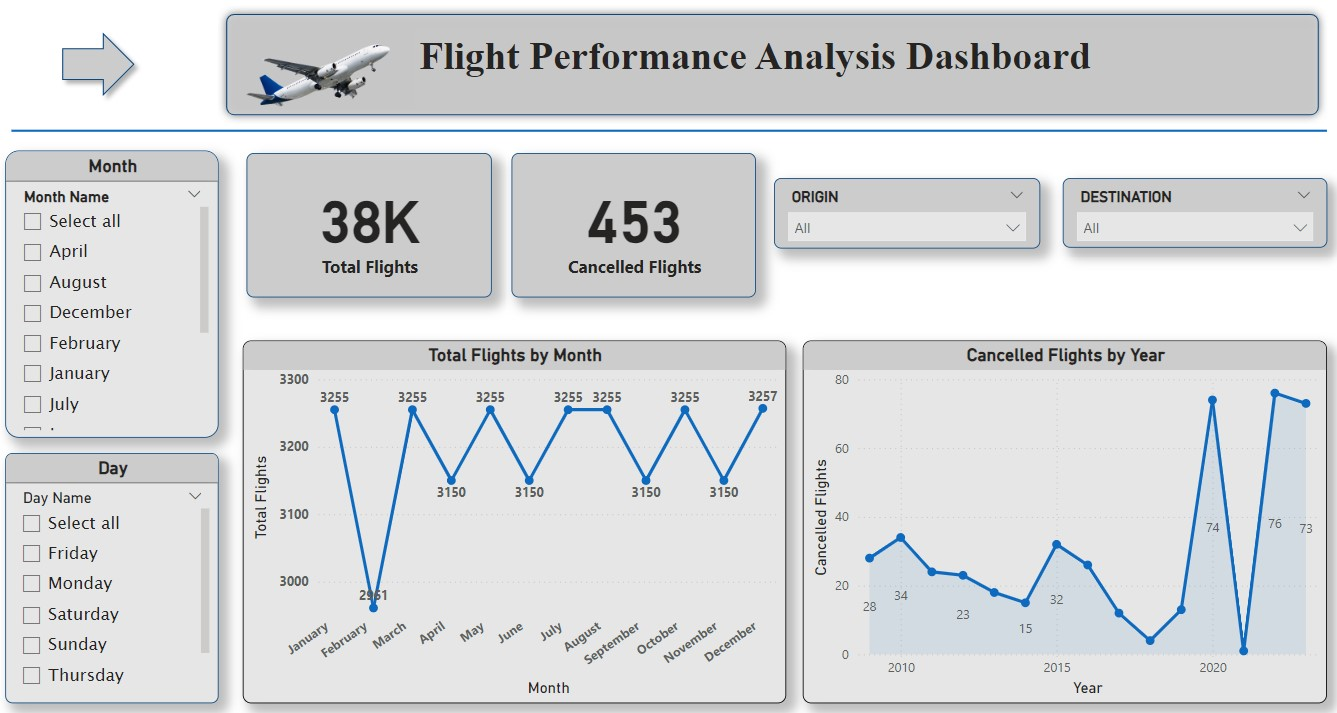

The page's visual inventory and layout, read from the dashboard file:
{"tool":"powerbi","page":{"name":"Overview","canvas":[1280,720],"ordinal":0},"visuals":[{"type":"shape","box":[208.6,12.3,1056.6,112.5],"z":0},{"type":"textbox","box":[395.2,32.9,865.9,75.5],"z":1000},{"type":"shape","box":[12.3,124.9,1252.8,12.3],"z":2000},{"type":"shape","box":[33.8,10.9,119.4,113.4],"z":3000},{"type":"card","fields":{"Values":["flights_data.Total Flights"]},"box":[236,152.3,233.3,137.2],"z":4000},{"type":"card","fields":{"Values":["flights_data.Cancelled Flights"]},"box":[488,152.3,233,137.2],"z":5000},{"type":"slicer","fields":{"Values":["flights_data.ORIGIN"]},"box":[738.3,175.6,253.9,67.2],"z":6000},{"type":"slicer","fields":{"Values":["flights_data.DESTINATION"]},"box":[1013.1,176.2,252.4,66.7],"z":7000},{"type":"slicer","title":"Month","fields":{"Values":["flights_data.Month Name"]},"box":[6,150,203.6,273.8],"z":8000},{"type":"slicer","title":"Day","fields":{"Values":["flights_data.Day Name"]},"box":[6,438.1,203.6,238.1],"z":9000},{"type":"lineChart","fields":{"Category":["flights_data.FL_DATE.Variation.Date Hierarchy.Quarter","flights_data.FL_DATE.Variation.Date Hierarchy.Month"],"Y":["flights_data.Total Flights"]},"box":[231.9,330.7,517.3,345.8],"z":10000},{"type":"stackedAreaChart","fields":{"Category":["flights_data.FL_DATE.Variation.Date Hierarchy.Year"],"Y":["flights_data.Cancelled Flights"]},"box":[765.7,330.7,499.5,345.8],"z":11000},{"type":"shape","box":[50.7,29,86.9,78.4],"z":12000},{"type":"image","box":[225,0,163.3,163.3],"z":13000}]}

Visuals, with their boxes on the page's 1280x720 design canvas (x1, y1, x2, y2). These are canvas units, not pixel positions in the 1337x713 screenshot, which may show the page scaled, cropped or inside an application window:
shape: 209, 12, 1265, 125
textbox: 395, 33, 1261, 108
shape: 12, 125, 1265, 137
shape: 34, 11, 153, 124
card - flights_data.Total Flights: 236, 152, 469, 290
card - flights_data.Cancelled Flights: 488, 152, 721, 290
slicer - flights_data.ORIGIN: 738, 176, 992, 243
slicer - flights_data.DESTINATION: 1013, 176, 1266, 243
"Month" slicer: 6, 150, 210, 424
"Day" slicer: 6, 438, 210, 676
lineChart - flights_data.FL_DATE.Variation.Date Hierarchy.Quarter x flights_data.FL_DATE.Variation.Date Hierarchy.Month: 232, 331, 749, 676
stackedAreaChart - flights_data.FL_DATE.Variation.Date Hierarchy.Year x flights_data.Cancelled Flights: 766, 331, 1265, 676
shape: 51, 29, 138, 107
image: 225, 0, 388, 163
